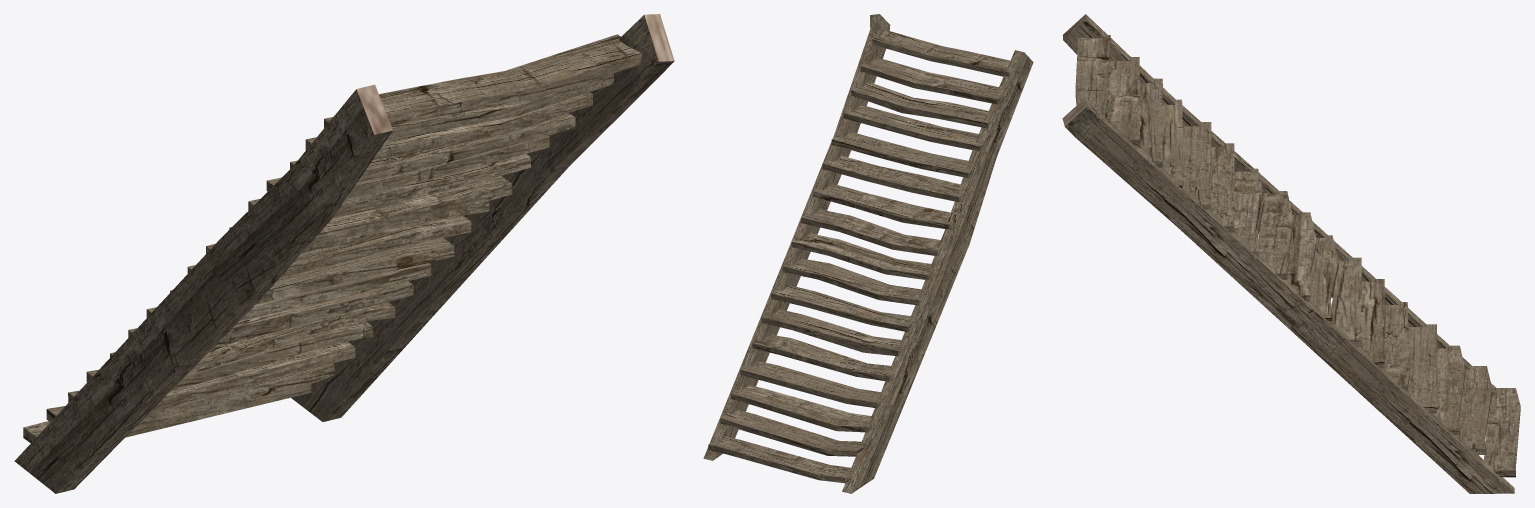
File: TW2_1_HUT_05_2-transformed.glb
3 views of the same model, side by side, from view 1: azimuth 30°, elevation 25°; view 2: azimuth 150°, elevation 25°; view 3: azimuth 270°, elevation 25° (orthographic). The views are drawn at different scales.
Visible parts, largest first — view 1: default; view 2: default; view 3: default.
Part boxes in pixels (<box>): default: <box>14,14,674,493</box>; default: <box>703,14,1033,493</box>; default: <box>1062,14,1520,493</box>.
Size of the model in its own units: 1.56 by 3.05 by 3.21.
2 materials, 2 textured.
